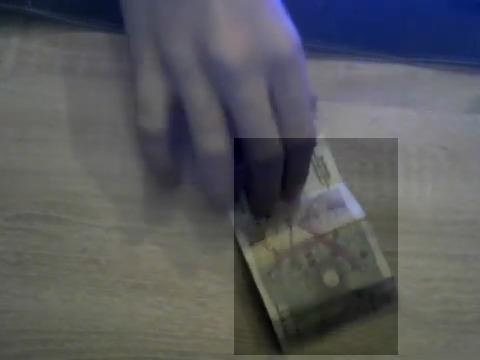10leva: (234, 138, 398, 355)
